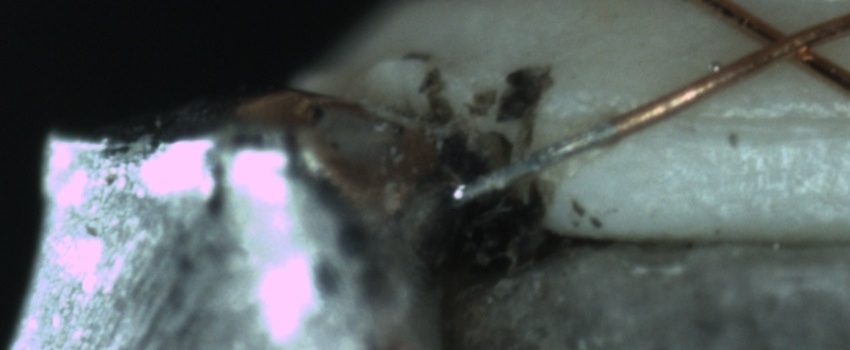CL: (737, 11, 838, 74)
DL: (619, 85, 848, 160)
TS: (450, 122, 618, 204)
